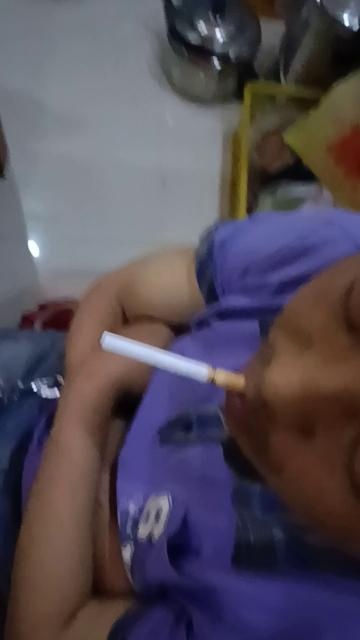Cigarette: (100, 330, 248, 396)
